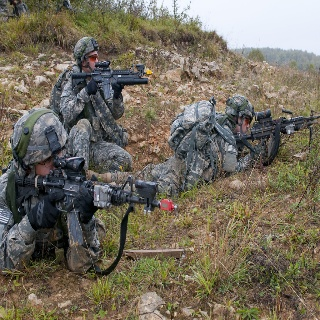rifle: (14, 155, 175, 247), (232, 108, 320, 161), (71, 59, 153, 100)
